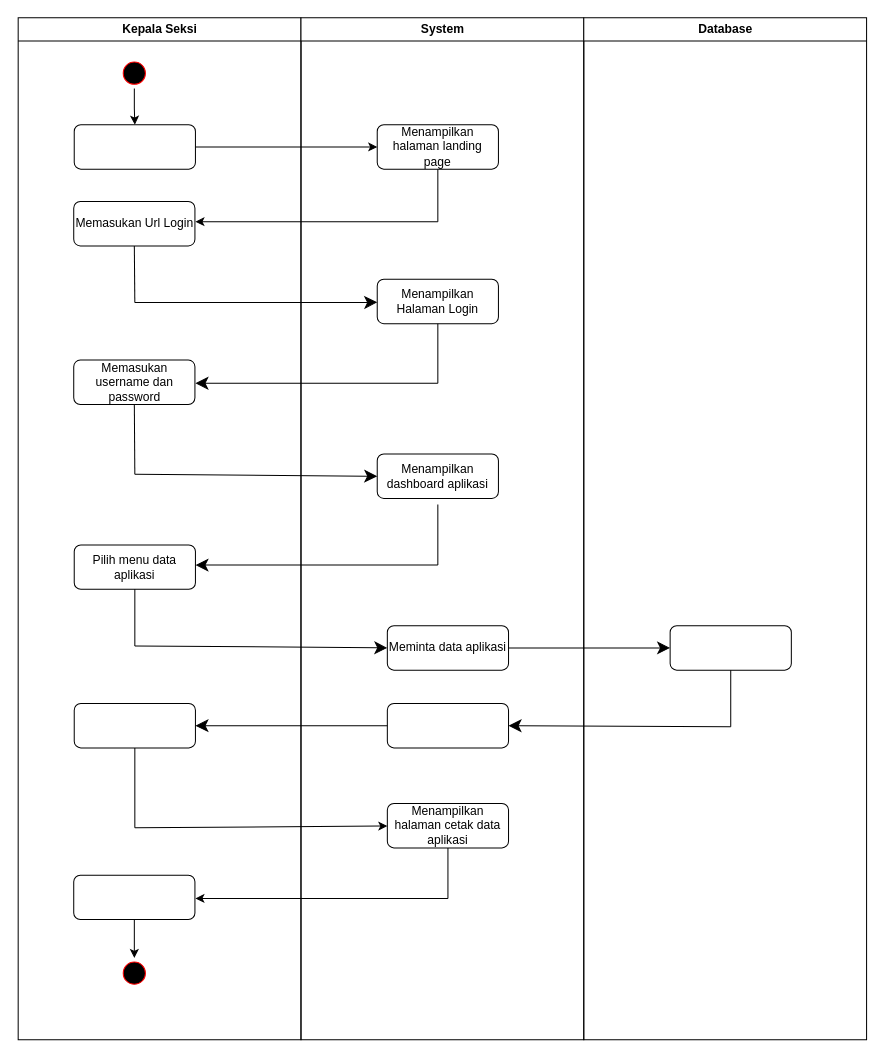
Some shapes in this 884 by 1057 pixel diagram are drawn without their labels. Each missing label, with the centre of its shape:
"Buka Aplikasi Web SEMA" goes at (134,146).
"Cetak data aplikasi" goes at (134,897).
"Database aplikasi" goes at (730,647).
"Menampilkan data aplikasi" goes at (447,725).
"Pilih cetak aplikasi" goes at (134,725).
